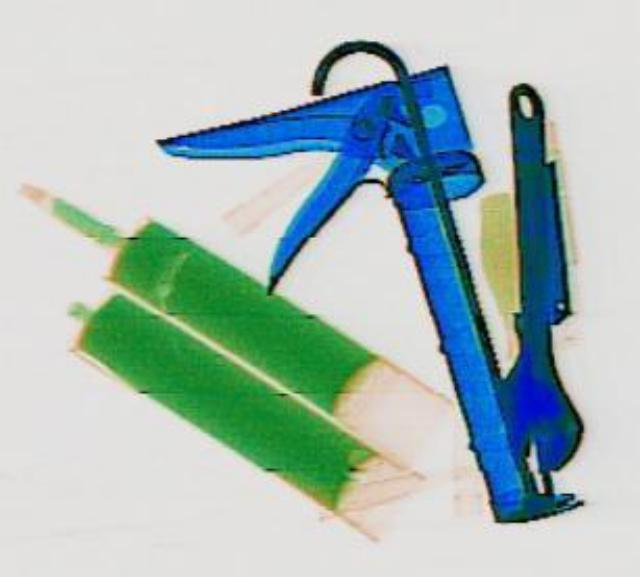Knife: (146, 61, 578, 566)
Wrench: (446, 80, 584, 471)
